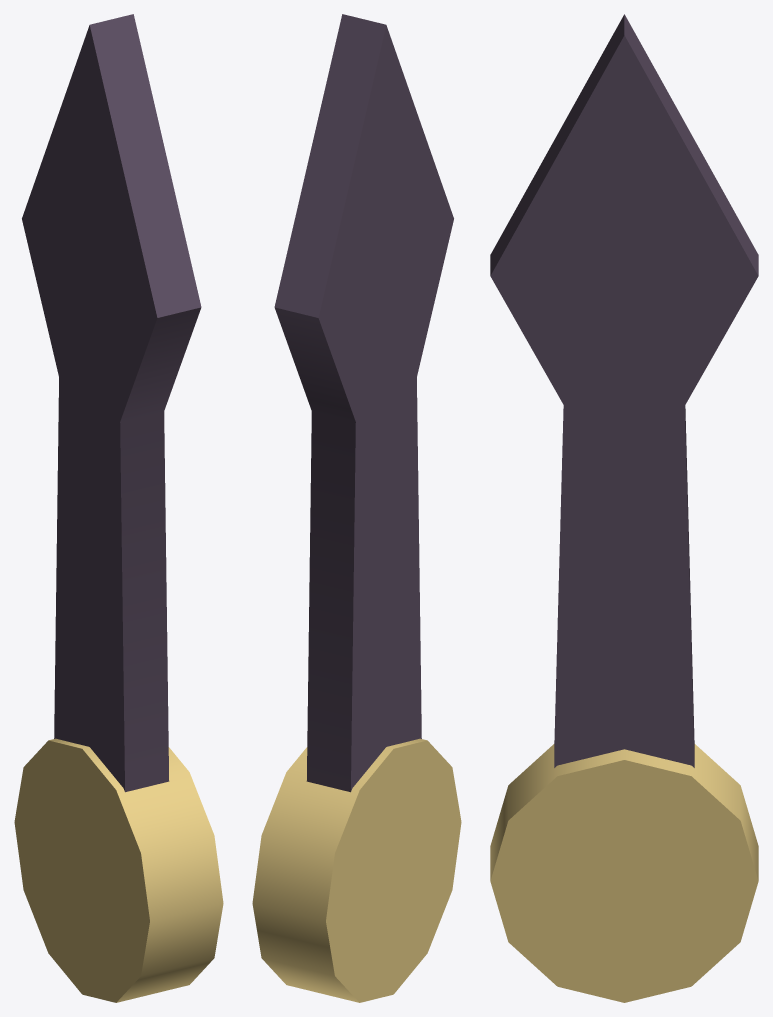
The model's file is clock_minute.glb.
3 renders of one model, left to right at view 1: azimuth 30°, elevation 25°; view 2: azimuth 150°, elevation 25°; view 3: azimuth 270°, elevation 25°, orthographic.
Visible parts, largest first — view 1: clock_minute; view 2: clock_minute; view 3: clock_minute.
Part boxes in pixels (x1,y1,x2,y2): clock_minute: (14,14,223,1002); clock_minute: (252,14,461,1002); clock_minute: (490,14,758,1002).
Bounding box in the file's own units: 0.0104 × 0.1306 × 0.0332.
